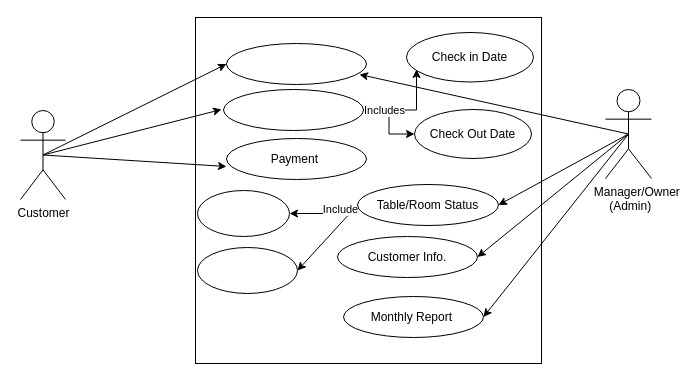
Some shapes in this 697 by 381 pixel diagram are drawn without their labels. Here are the shapes that lost their labels. From the top down, the centre of each, then its label:
[296,63]: Login
[293,109]: Book Table/Room
[243,213]: Booked / Reserved
[247,270]: Vacant
